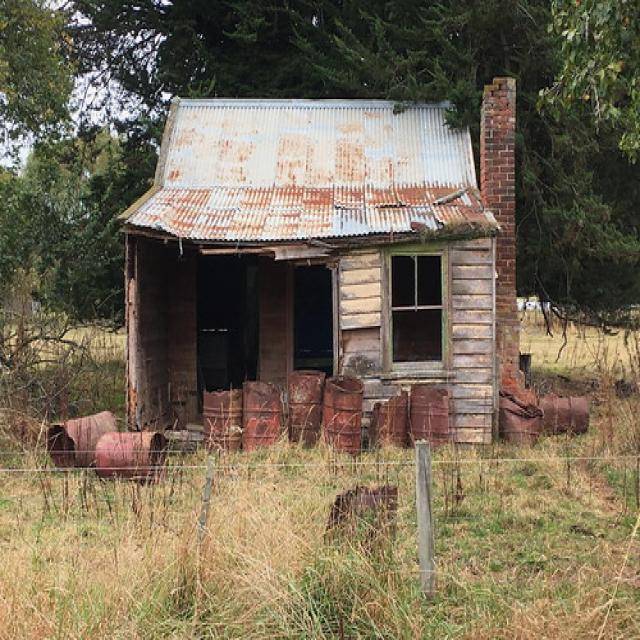building: (112, 79, 518, 452)
